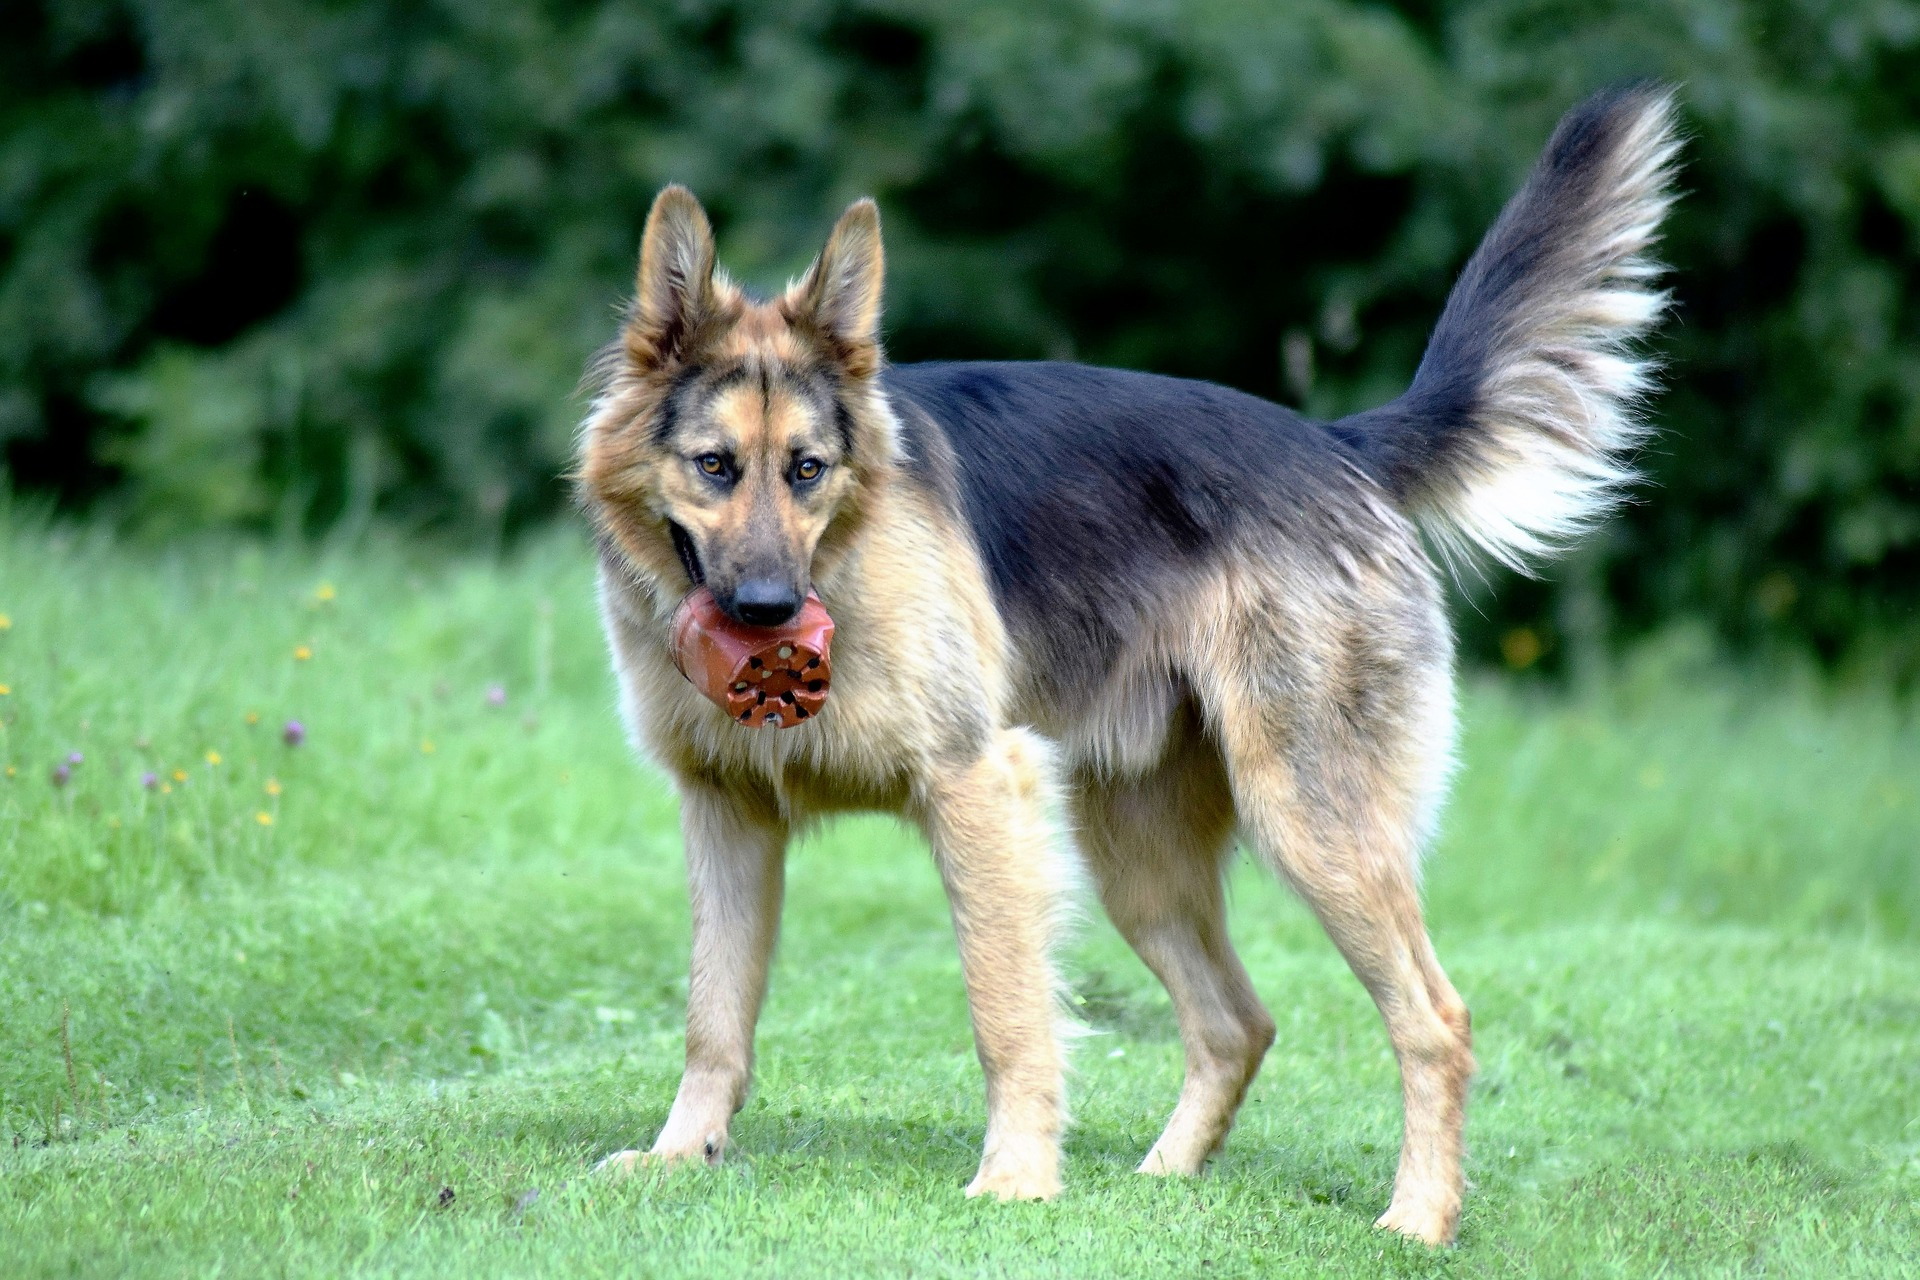tail: (1344, 71, 1699, 610)
